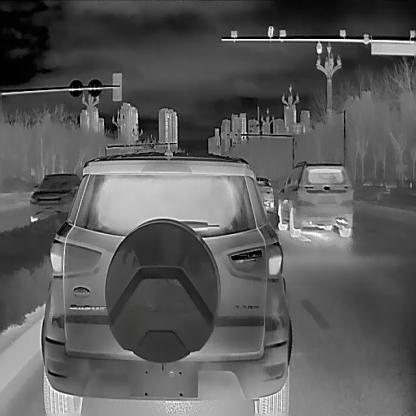car: (41, 151, 293, 416), (276, 160, 352, 236), (29, 172, 78, 220), (253, 176, 273, 210)
